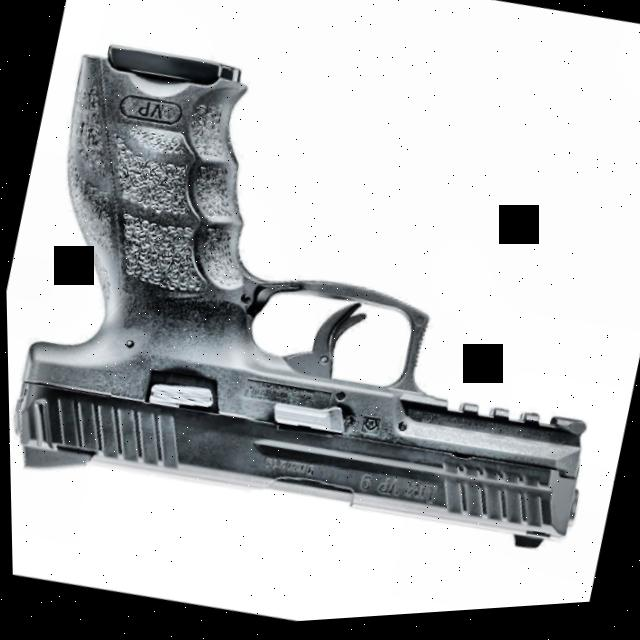HKVP9: (1, 9, 640, 596)
